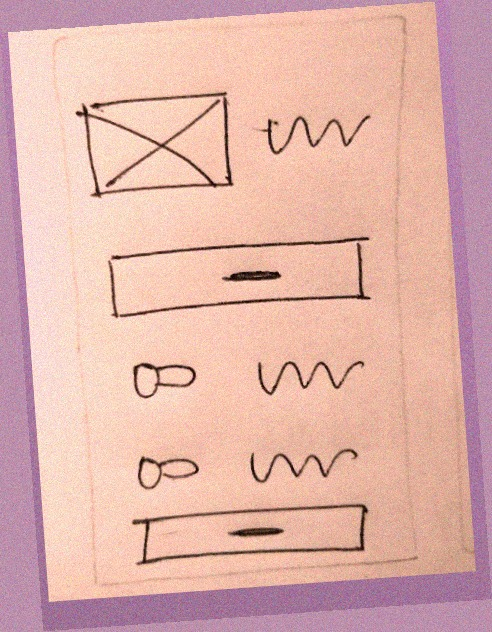button: (102, 227, 379, 330), (126, 496, 375, 572)
image: (70, 83, 248, 206)
switch: (117, 351, 218, 407), (124, 445, 212, 499)
text: (250, 101, 376, 163), (243, 433, 362, 497), (247, 348, 373, 407)
